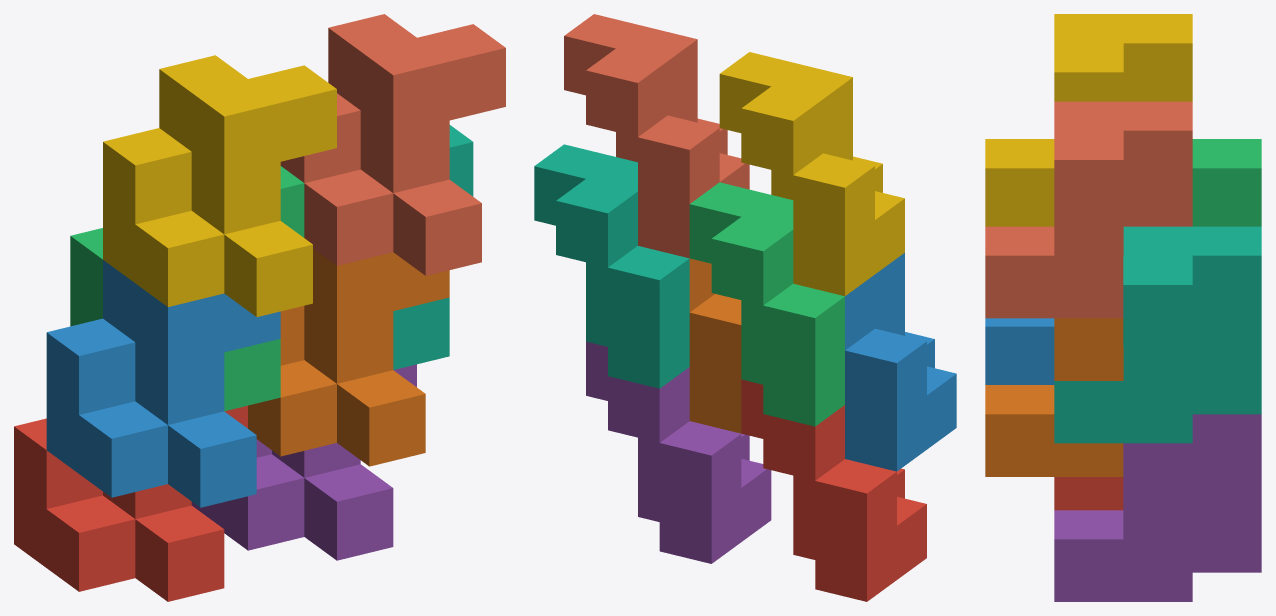
The model's file is tiling.obj.
3 views of the same model, side by side, from view 1: azimuth 30°, elevation 25°; view 2: azimuth 150°, elevation 25°; view 3: azimuth 270°, elevation 25° (orthographic). The views are drawn at different scales.
Visible parts, largest first — view 1: copy_1_domain_4, copy_1_domain_8, copy_1_domain_2, copy_1_domain_6, copy_1_domain_1, copy_1_domain_5, copy_1_domain_3, copy_1_domain_7; view 2: copy_1_domain_4, copy_1_domain_8, copy_1_domain_3, copy_1_domain_7, copy_1_domain_1, copy_1_domain_5, copy_1_domain_2, copy_1_domain_6; view 3: copy_1_domain_7, copy_1_domain_8, copy_1_domain_5, copy_1_domain_4, copy_1_domain_6, copy_1_domain_3, copy_1_domain_2, copy_1_domain_1.
Part boxes in pixels (box(x1,y1,x2,y2)): copy_1_domain_4: box(103, 55, 336, 316); copy_1_domain_8: box(280, 14, 505, 275); copy_1_domain_2: box(46, 260, 280, 507); copy_1_domain_6: box(248, 248, 449, 466); copy_1_domain_1: box(14, 405, 247, 601); copy_1_domain_5: box(191, 364, 416, 560); copy_1_domain_3: box(70, 166, 304, 411); copy_1_domain_7: box(393, 125, 473, 369); copy_1_domain_4: box(719, 52, 904, 296); copy_1_domain_8: box(564, 14, 749, 258); copy_1_domain_3: box(689, 182, 844, 426); copy_1_domain_7: box(534, 144, 689, 388); copy_1_domain_1: box(741, 379, 926, 601); copy_1_domain_5: box(586, 341, 771, 563); copy_1_domain_2: box(845, 253, 956, 471); copy_1_domain_6: box(689, 258, 741, 433); copy_1_domain_7: box(1054, 226, 1261, 443); copy_1_domain_8: box(985, 101, 1192, 318); copy_1_domain_5: box(1054, 414, 1261, 601); copy_1_domain_4: box(985, 14, 1192, 226); copy_1_domain_6: box(985, 318, 1123, 476); copy_1_domain_3: box(1192, 139, 1261, 226); copy_1_domain_2: box(985, 318, 1054, 384); copy_1_domain_1: box(1054, 477, 1123, 510).
Size of the model in its own units: 7 by 8 by 4.
